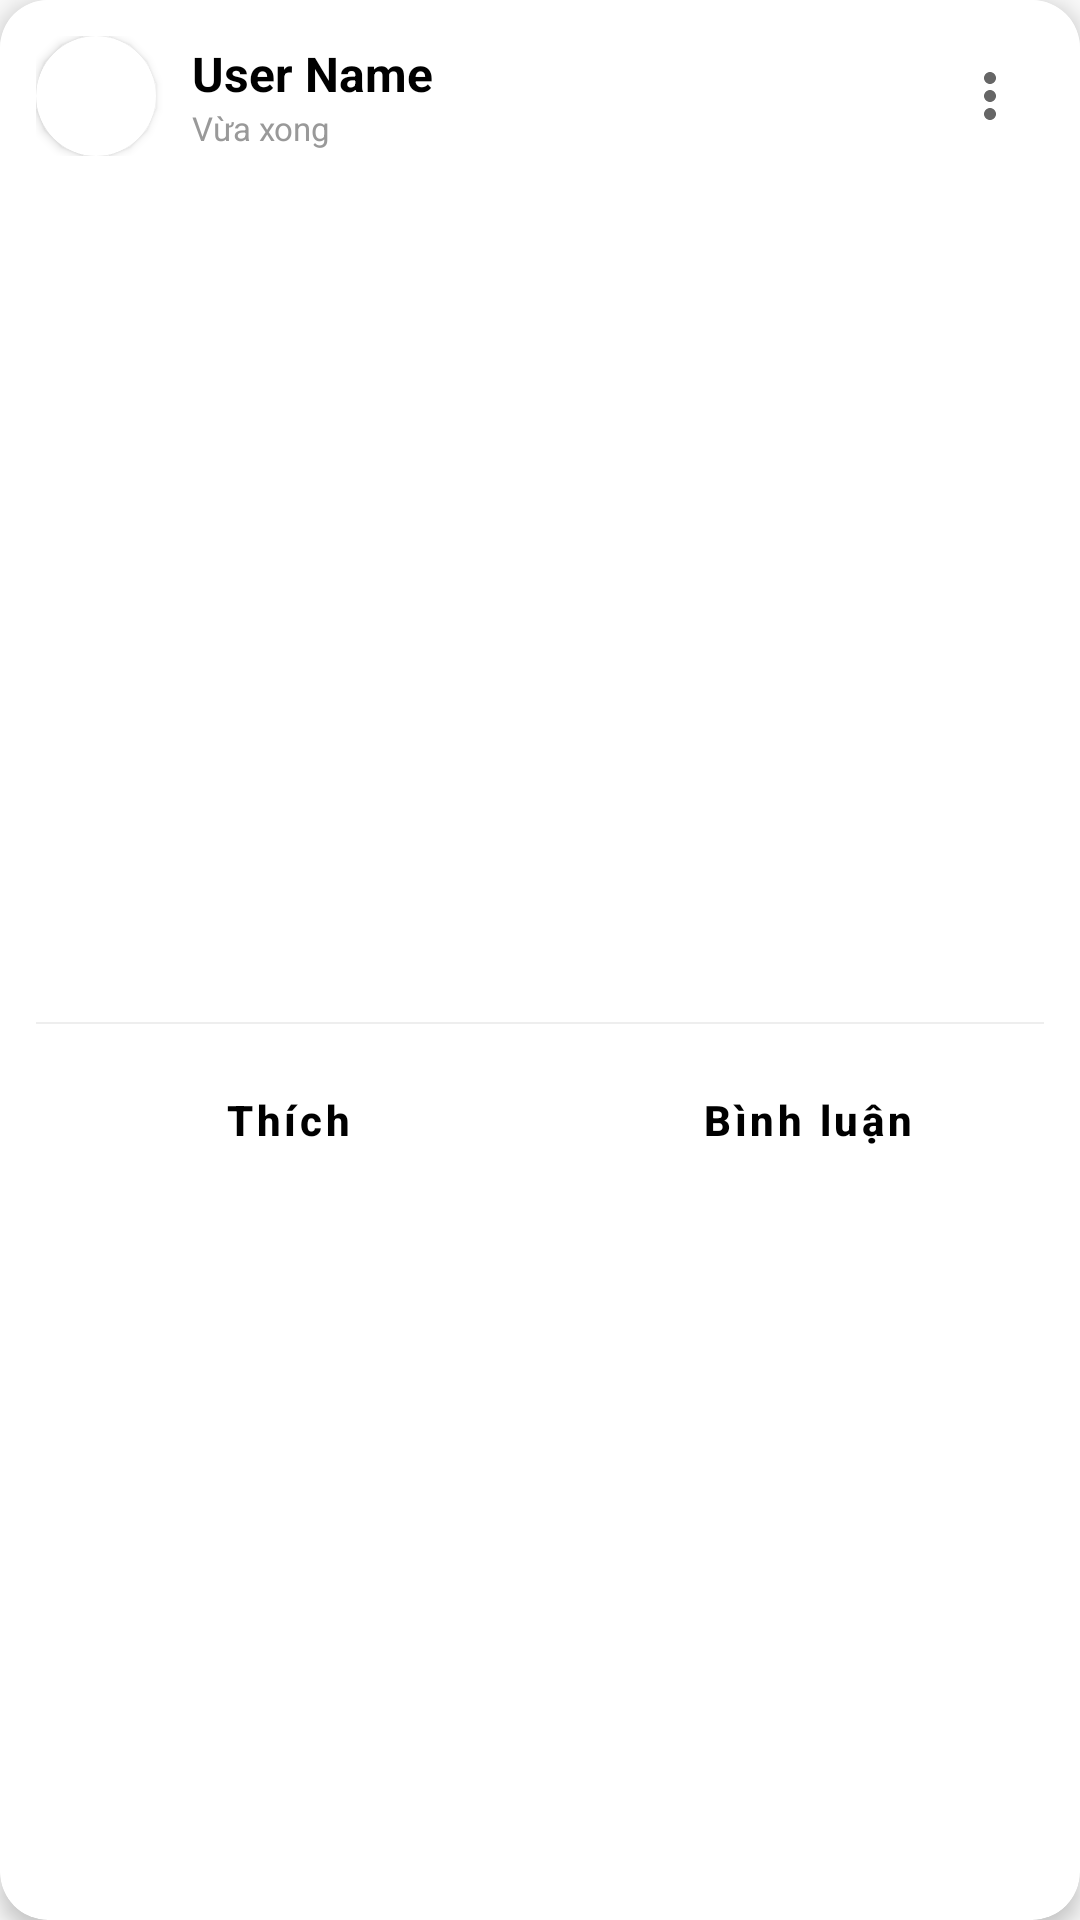

Icon click points for this 1080w x 1920h phone screenshot, format point (x, y):
more vert: point (990, 96)
